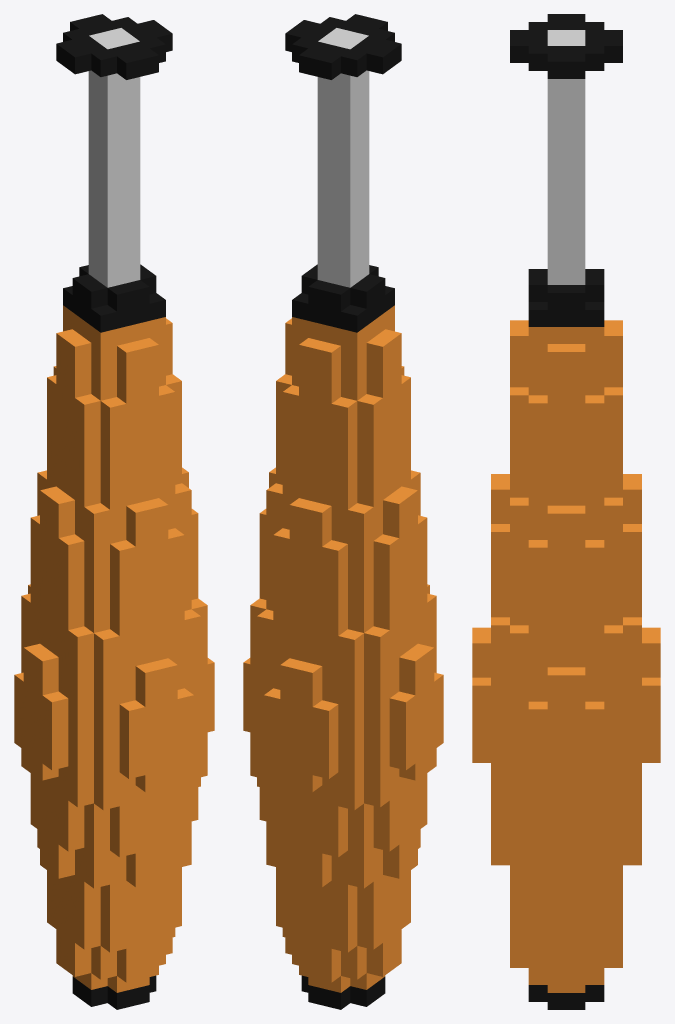
The model's file is sys_balk-1.obj.
3 renders of one model, left to right at view 1: azimuth 30°, elevation 25°; view 2: azimuth 150°, elevation 25°; view 3: azimuth 270°, elevation 25°, orthographic.
Bounding box in the file's own units: 1 × 5.6 × 1.
1 material, 1 textured.
